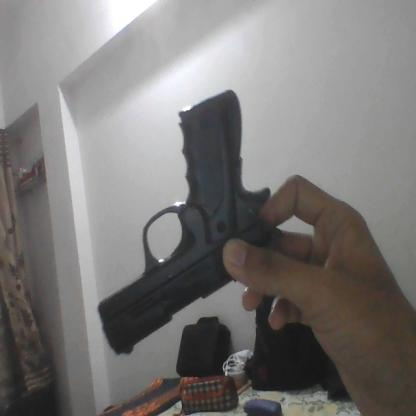handgun: (98, 86, 278, 356)
